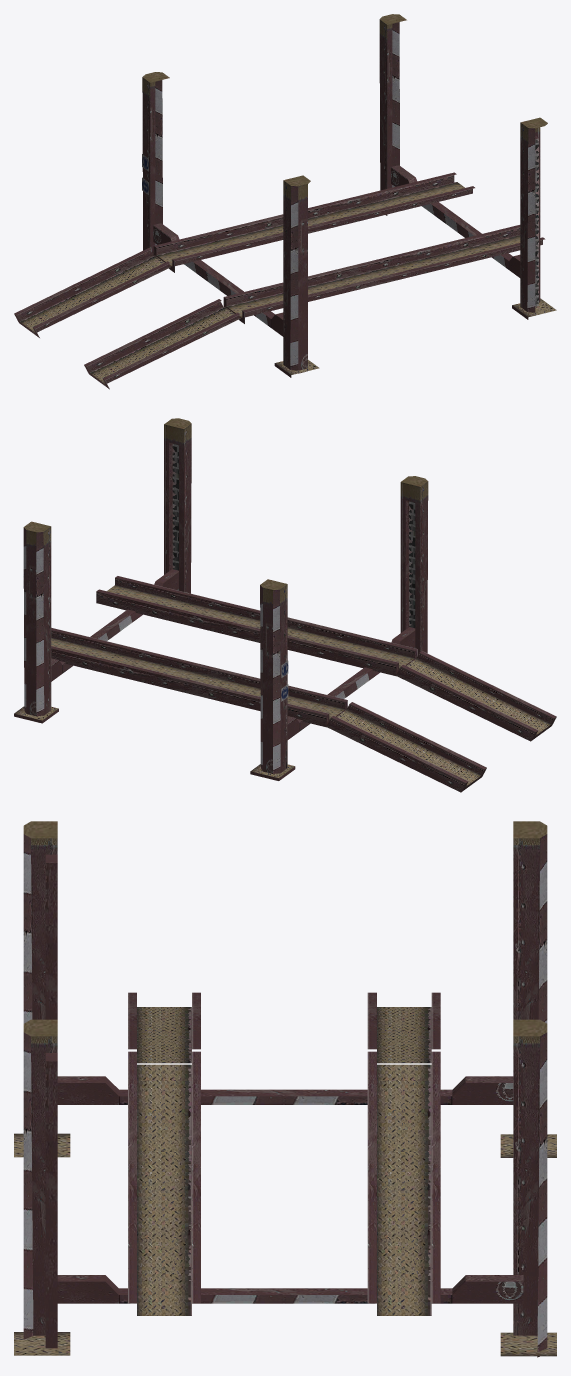
The model's file is allignment.fbx.
3 views of the same model, one above another, from view 1: azimuth 30°, elevation 25°; view 2: azimuth 150°, elevation 25°; view 3: azimuth 270°, elevation 25° (orthographic). The views are drawn at different scales.
Visible parts, largest first — view 1: Garage_Building.007; view 2: Garage_Building.007; view 3: Garage_Building.007.
Boxes of the visible parts, x1,y1,x2,y2 form: Garage_Building.007: (14, 14, 556, 389); Garage_Building.007: (14, 418, 556, 792); Garage_Building.007: (14, 821, 556, 1357).
Size of the model in its own units: 3251 by 1322 by 2026.
